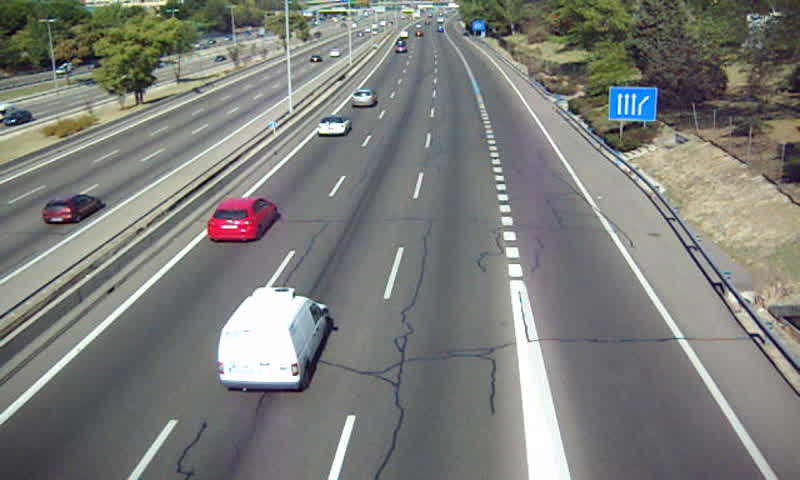car: (208, 198, 276, 242), (317, 114, 352, 137), (351, 88, 377, 109)
van: (218, 288, 328, 390)
